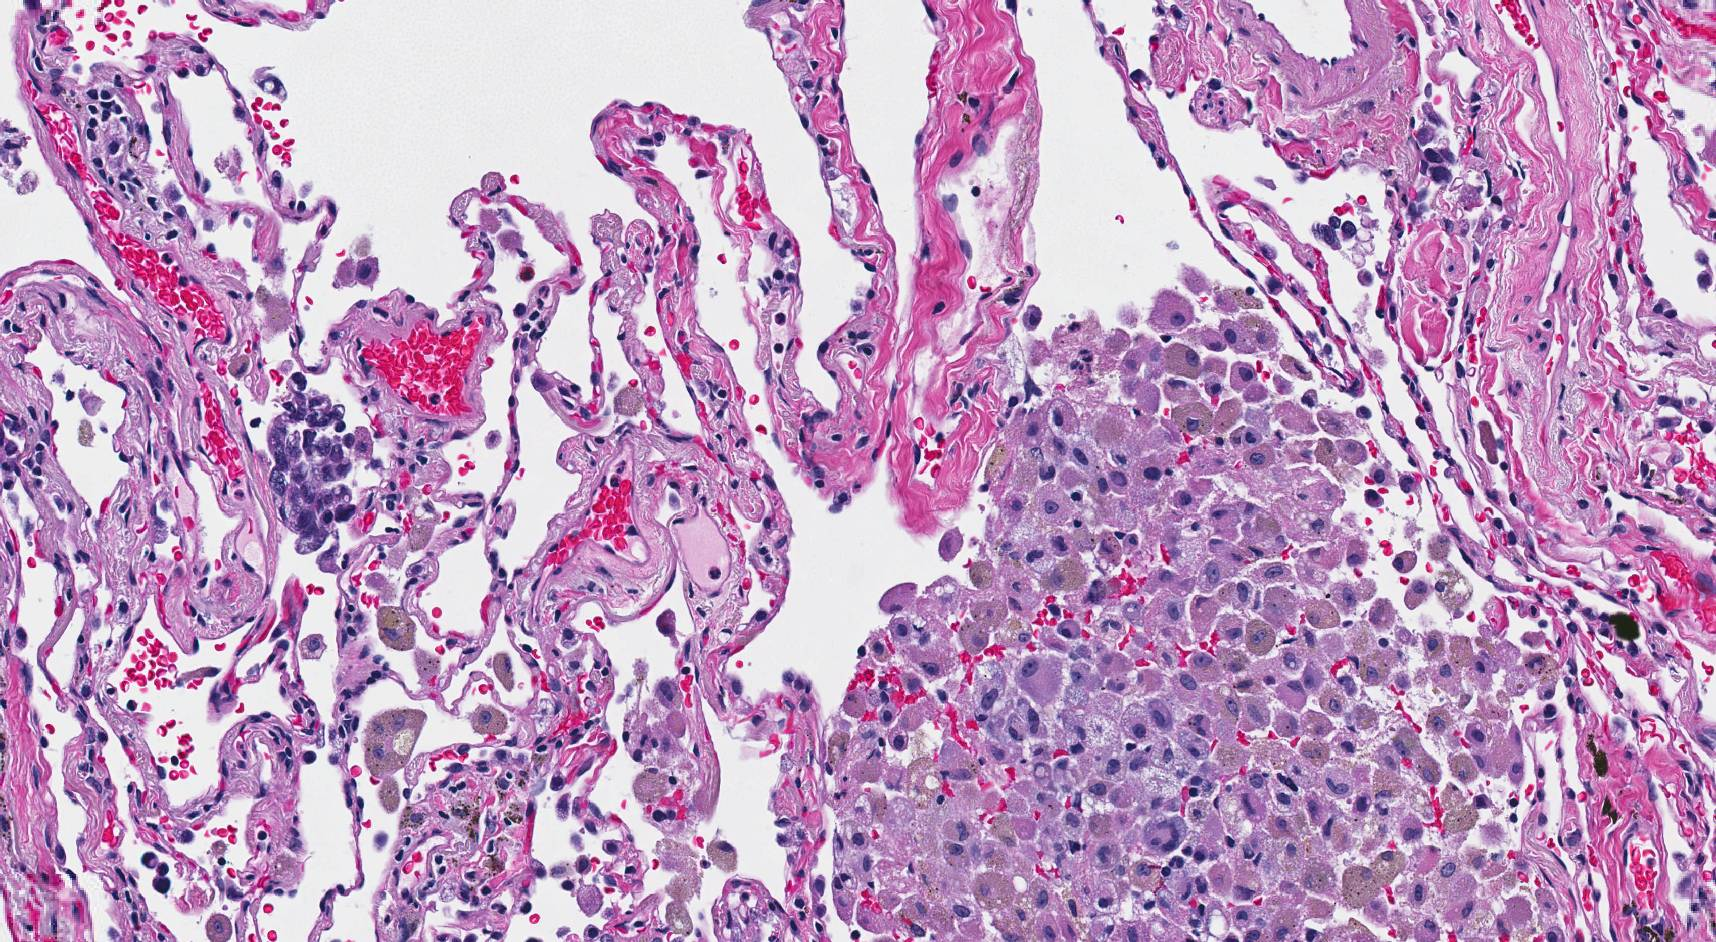stas: (263, 377, 358, 577)
